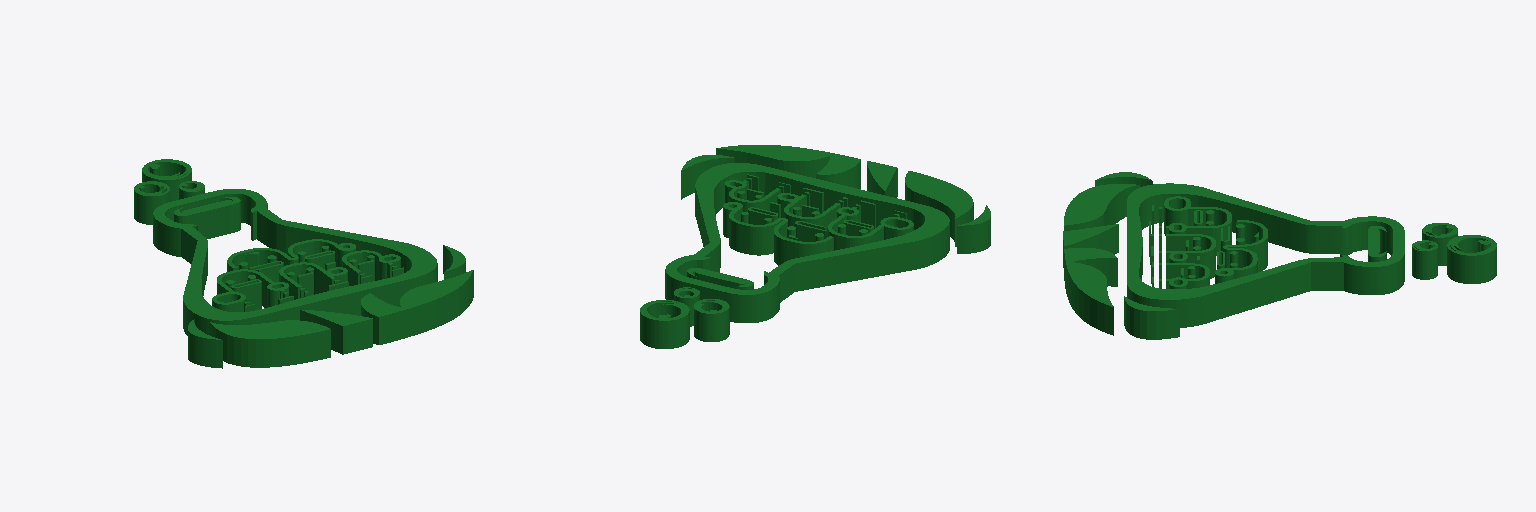
The model's file is startupweekend.obj.
The picture shows the model from 3 angles: view 1: azimuth 30°, elevation 25°; view 2: azimuth 150°, elevation 25°; view 3: azimuth 270°, elevation 25°; orthographic projection.
Parts seen in each view (by area): view 1: Curve.041_path172; view 2: Curve.041_path172; view 3: Curve.041_path172.
Boxes of the visible parts, x1=… form: Curve.041_path172: x1=134, y1=159, x2=473, y2=368; Curve.041_path172: x1=640, y1=145, x2=990, y2=348; Curve.041_path172: x1=1063, y1=172, x2=1496, y2=339.
Bounding box in the file's own units: 19.83 × 1.89 × 26.09.